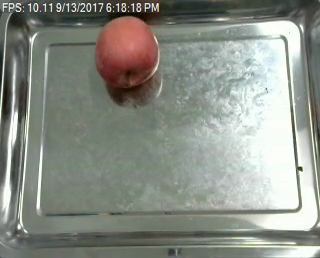Apple: (92, 10, 161, 95)
